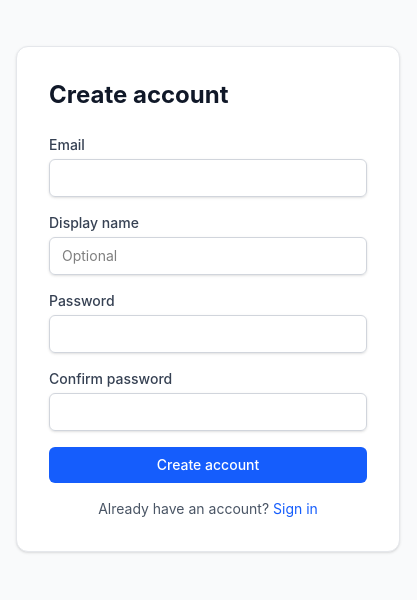
Scenario: RegisterPage › shows validation errors for empty submission
Click the button "Create account".
click(208, 465)  # box top-left (49, 447), bottom-right (367, 483)
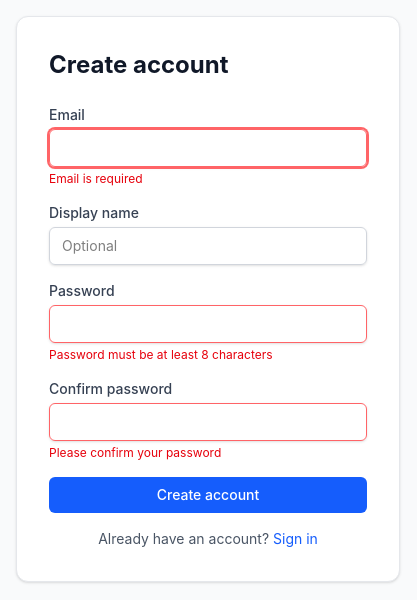
Expected: the text "Email is required" is shown, top-left (49, 171), bottom-right (143, 186)
Expected: the text "Password must be at least 8 characters" is shown, top-left (49, 347), bottom-right (273, 362)
Expected: the text "Please confirm your password" is shown, top-left (49, 445), bottom-right (221, 460)
